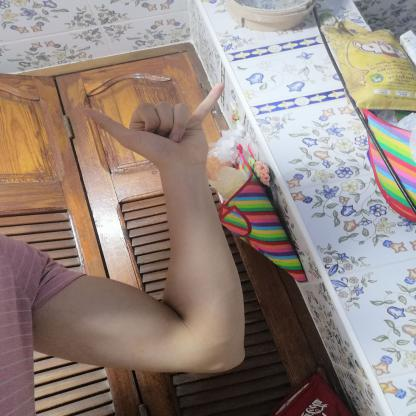YA: (73, 72, 238, 176)
